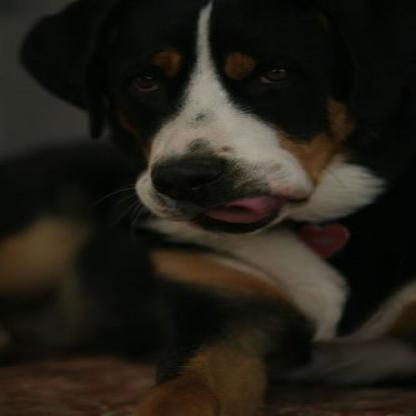Greater_Swiss_Mountain_dog: (0, 0, 412, 413)
